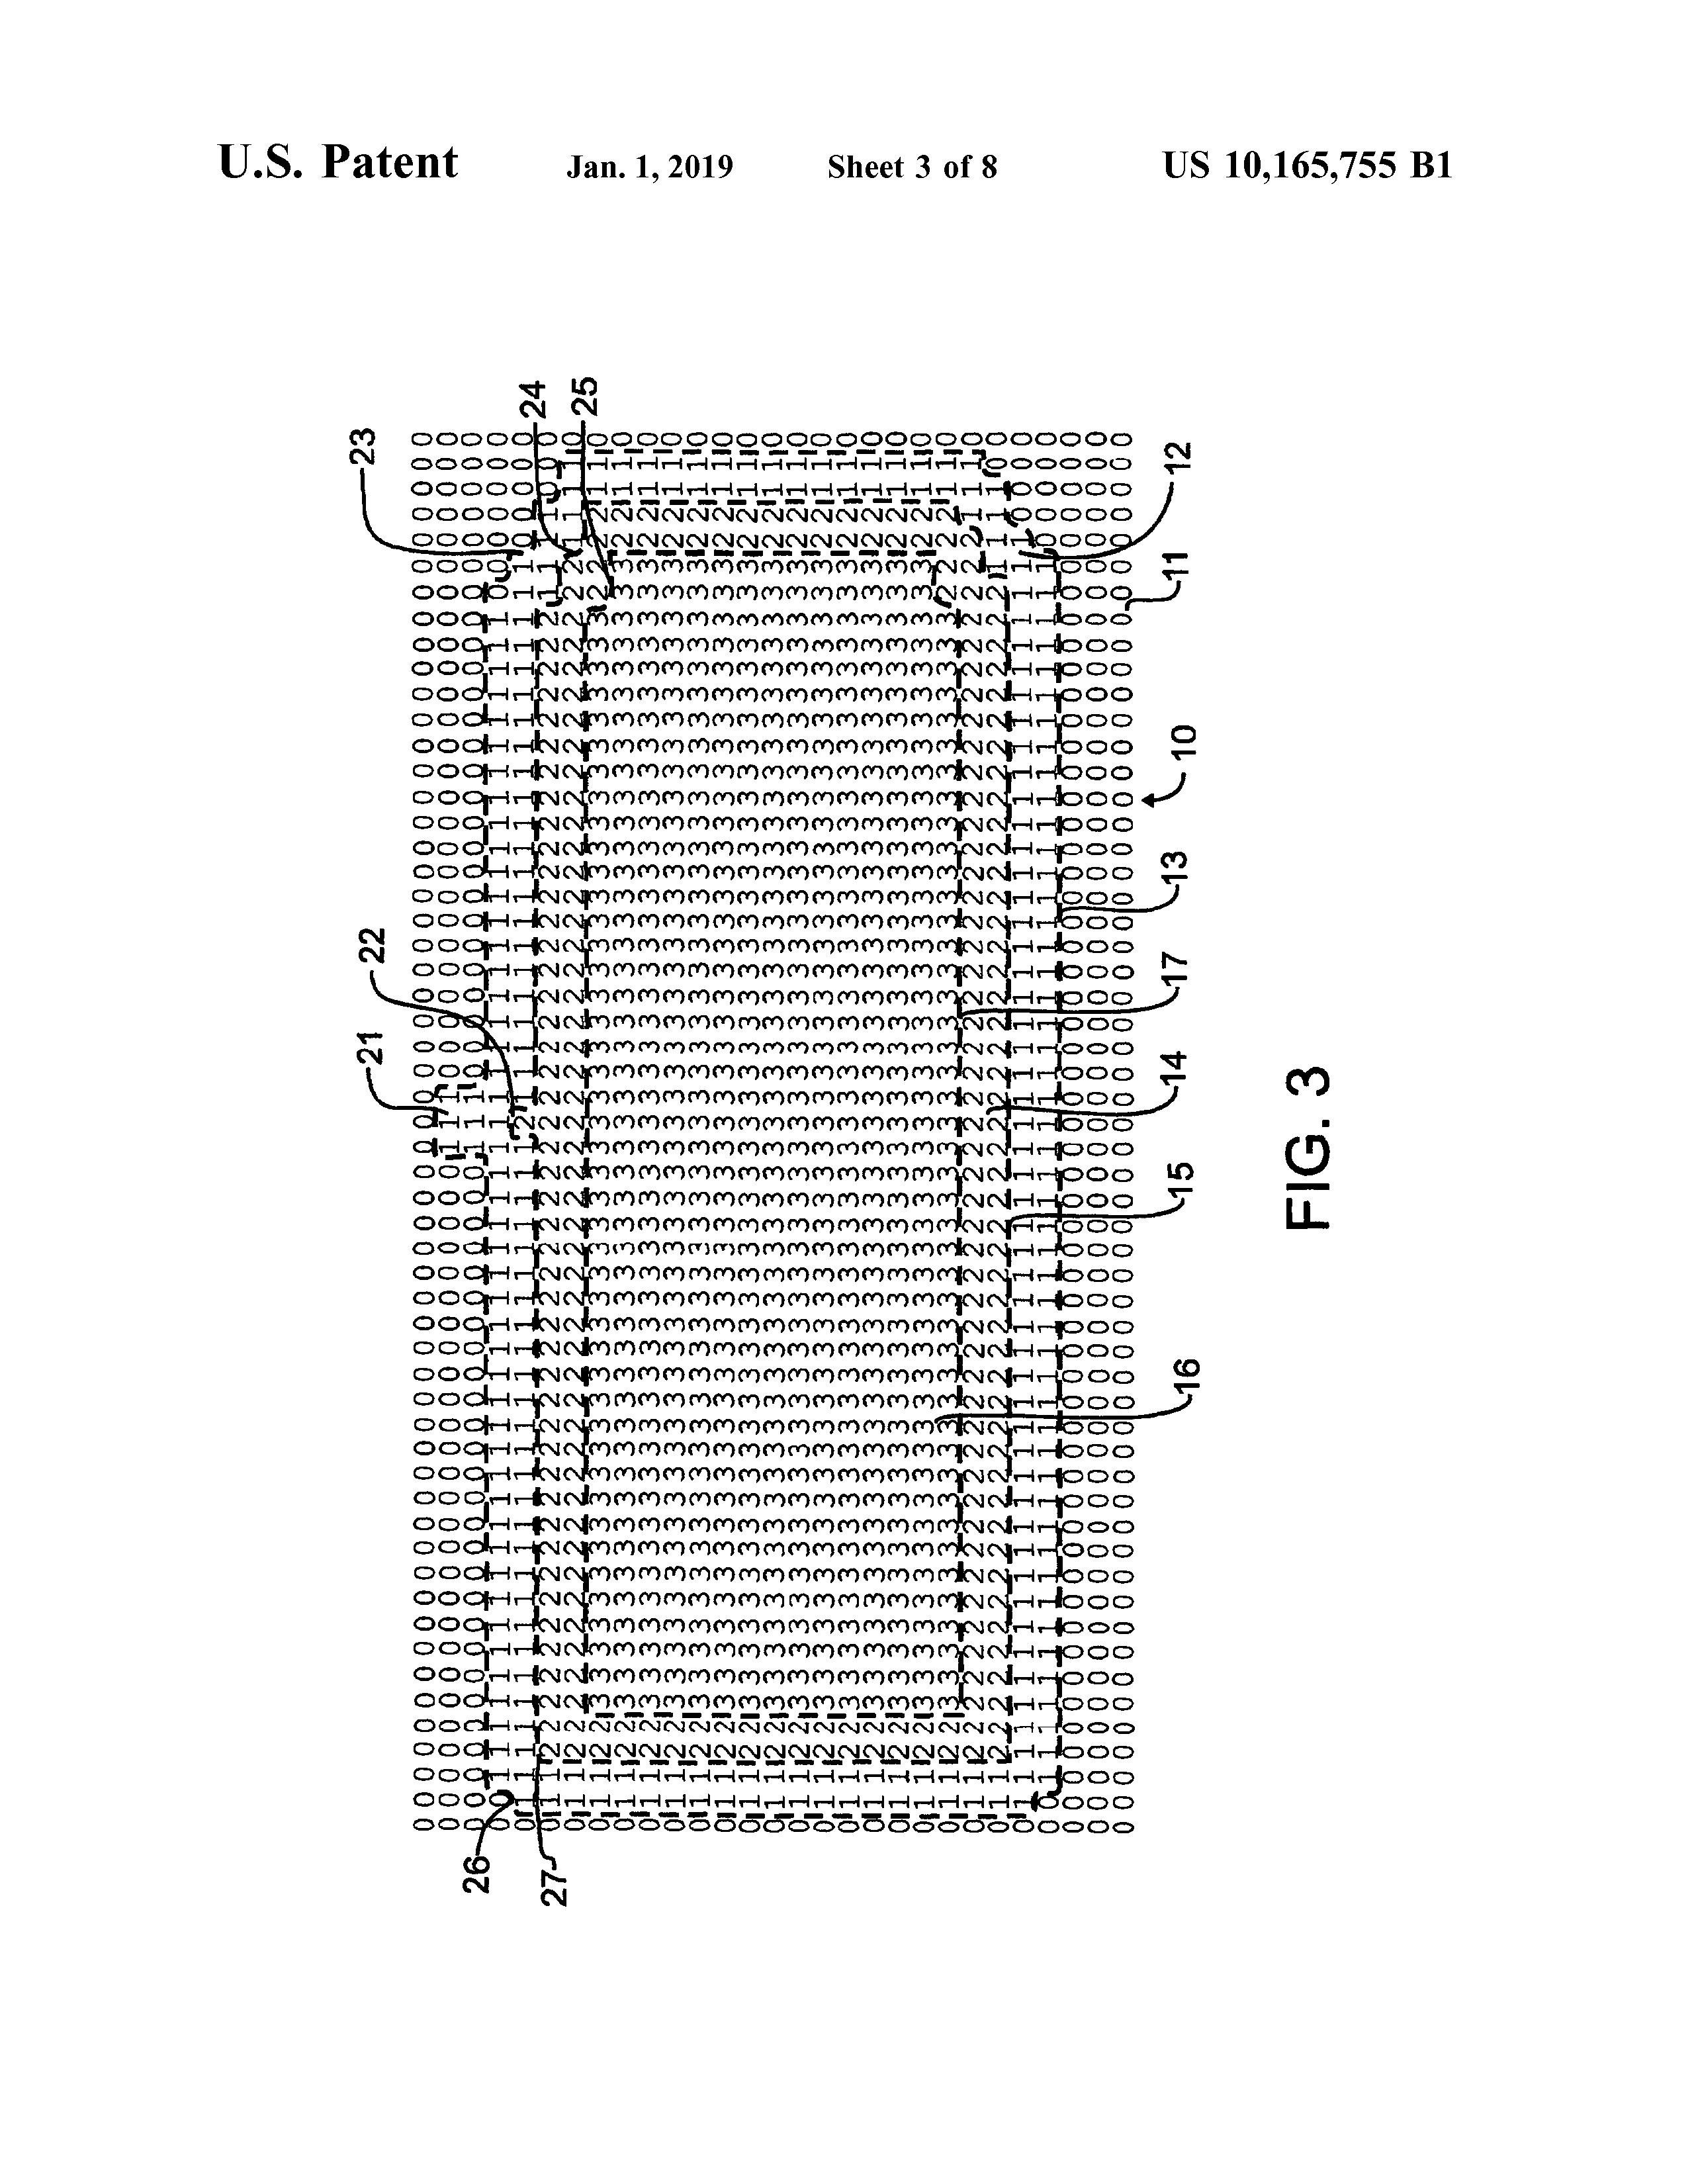patent image: (319, 375, 1345, 1913)
